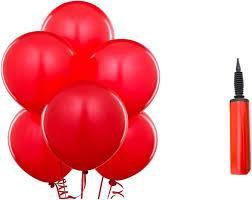red: (37, 0, 116, 97), (41, 82, 128, 168), (78, 38, 160, 114), (2, 31, 79, 111), (7, 108, 73, 183), (96, 111, 159, 178)
